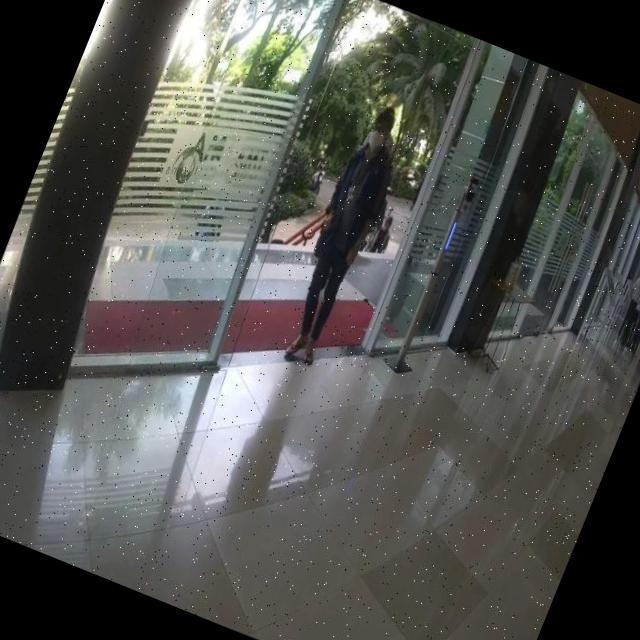person: (267, 98, 422, 372)
